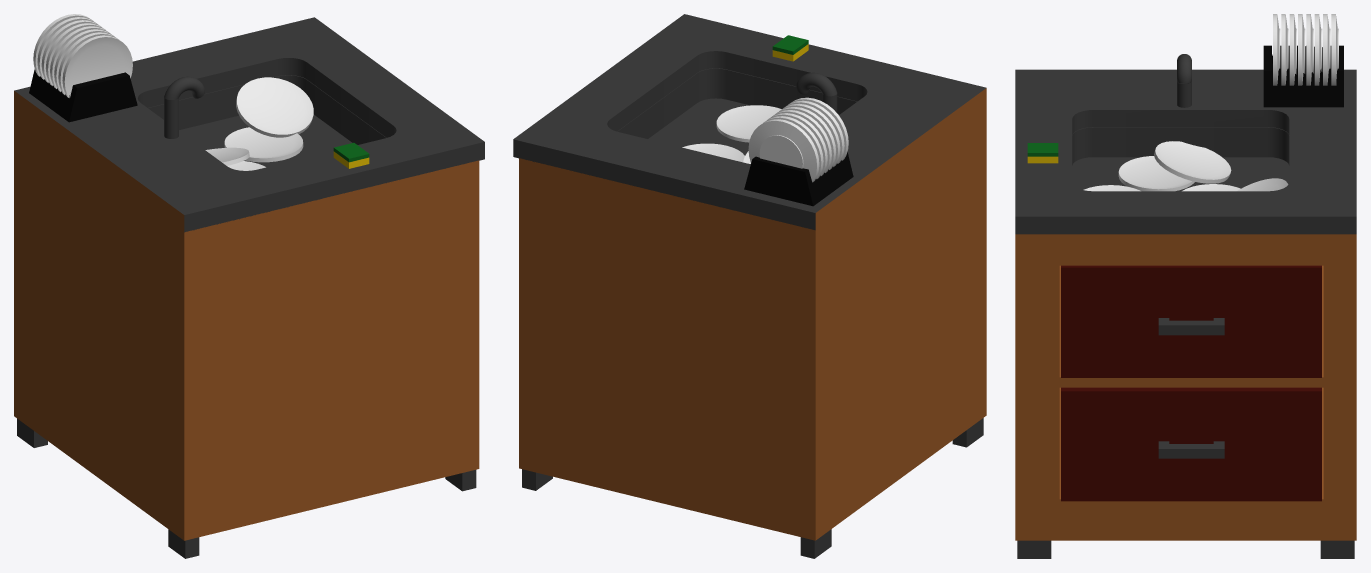
Rendered from PlatesFetchArea.fbx.
The picture shows the model from 3 angles, left to right: view 1: azimuth 30°, elevation 25°; view 2: azimuth 150°, elevation 25°; view 3: azimuth 270°, elevation 25°; orthographic projection.
Visible parts, largest first — view 1: CabinetBase.001; view 2: CabinetBase.001; view 3: CabinetBase.001.
Boxes of the visible parts, x1,y1,x2,y2 form: CabinetBase.001: [14, 14, 484, 558]; CabinetBase.001: [513, 14, 986, 558]; CabinetBase.001: [1015, 14, 1356, 558].
Size of the model in its own units: 2.13 by 2.71 by 2.
